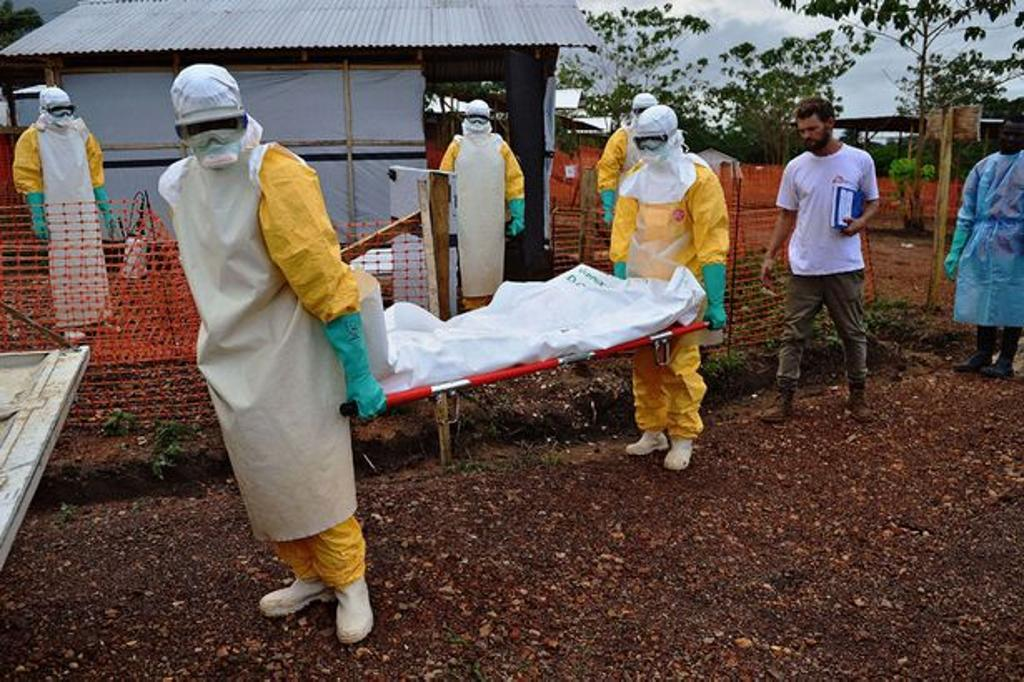face: (797, 115, 826, 150), (1001, 121, 1024, 152)
face_mask: (185, 110, 238, 159), (638, 132, 669, 163), (54, 107, 74, 127), (469, 116, 488, 135)
